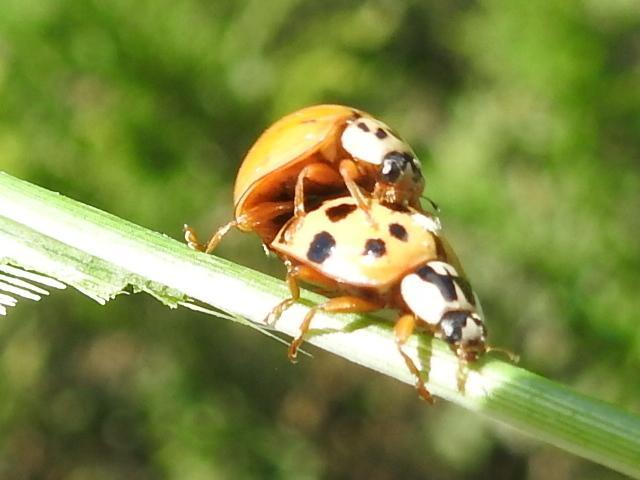ladybug: (264, 194, 526, 411), (182, 99, 444, 256)
